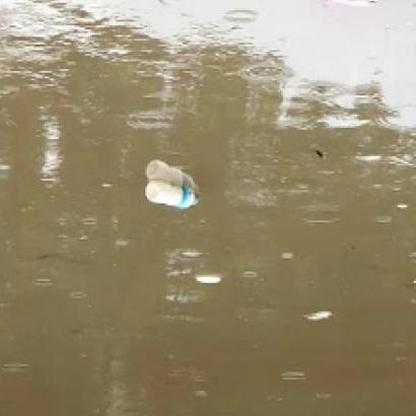plastic bottle: (144, 182, 199, 208)
